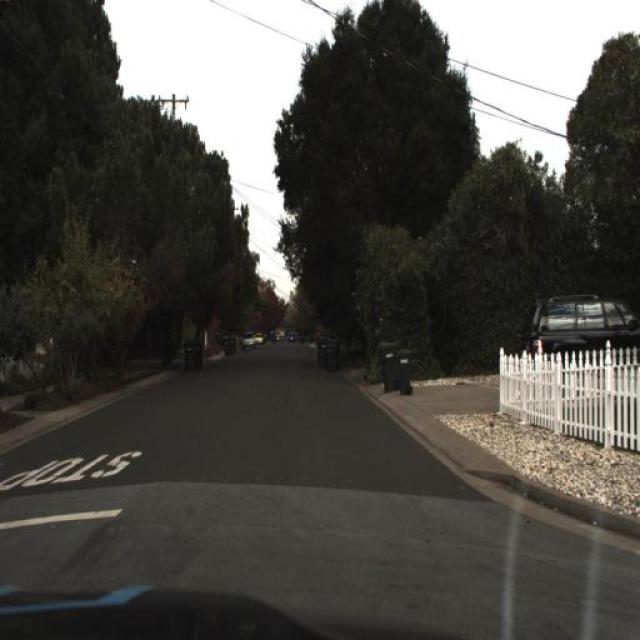car: (518, 295, 640, 365), (241, 332, 255, 348), (254, 332, 264, 347)
